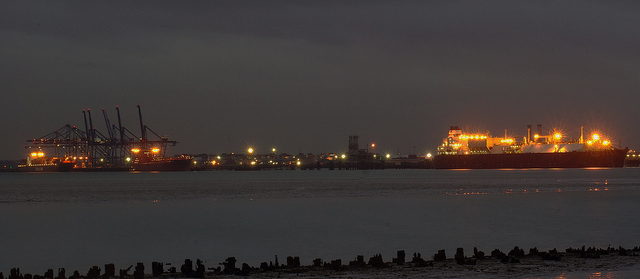LNG_ship: (443, 124, 632, 172)
container_ship: (126, 149, 201, 170), (14, 145, 75, 170)
